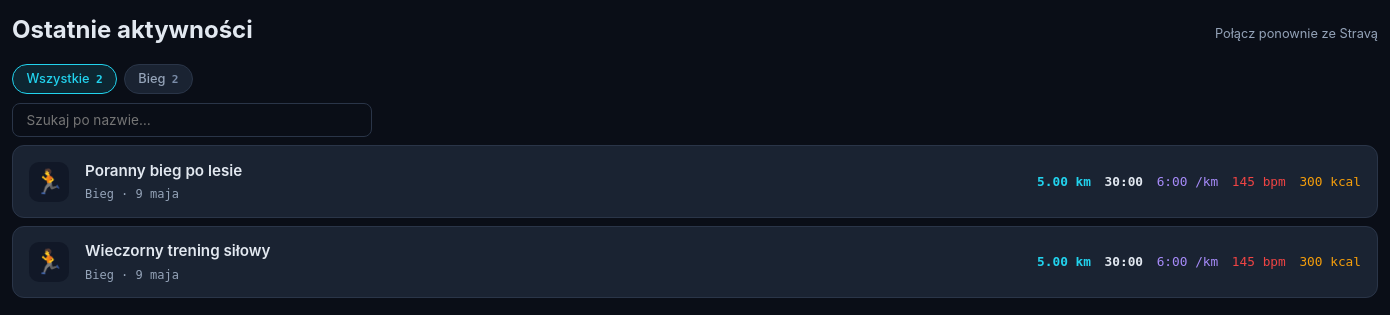
Scenario: A8 filters › search po nazwie (case-insensitive)
Expected: the text "Poranny bieg po lesie" is shown, x1=85 y1=161 x2=242 y2=180
Type "WIECZORNY" into the search field with placeholder "Szukaj po nazwie…".
click(192, 120); type("WIECZORNY")  # box x1=12 y1=103 x2=372 y2=137
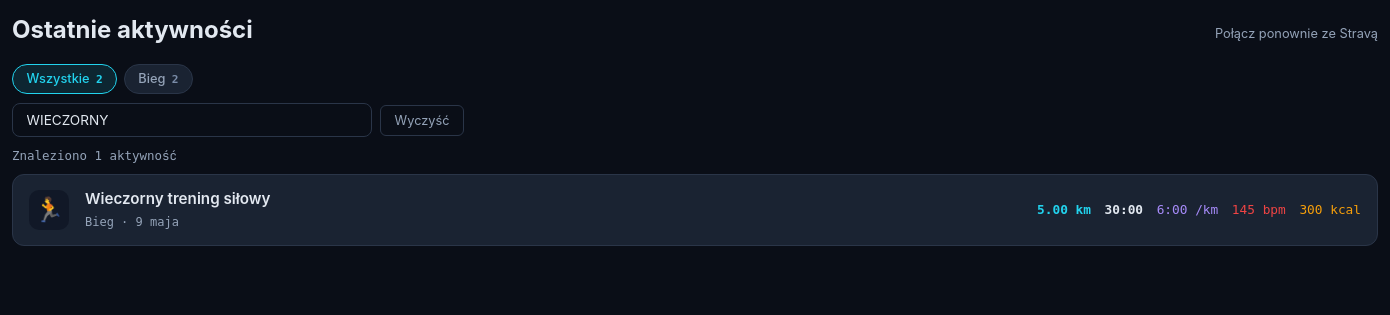
Expected: the text "Wieczorny trening siłowy" is shown, x1=85 y1=189 x2=270 y2=208
Now the text "Poranny bieg po lesie" is gone
